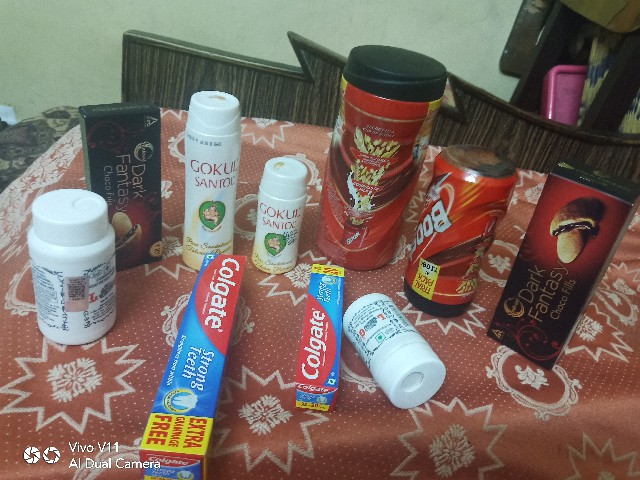boost big: (312, 21, 435, 265)
boost small: (401, 141, 521, 313)
colgatetoothpaste big: (133, 240, 250, 476)
colgatetoothpaste small: (283, 260, 350, 413)
darkfantasy big: (490, 164, 635, 374)
darkfantasy small: (69, 77, 165, 272)
gokulsantol big: (179, 84, 241, 268)
gokulsantol small: (249, 147, 312, 273)
lgasafoetidapowder large: (18, 185, 117, 351)
lgasafoetidapowder small: (341, 293, 460, 413)
